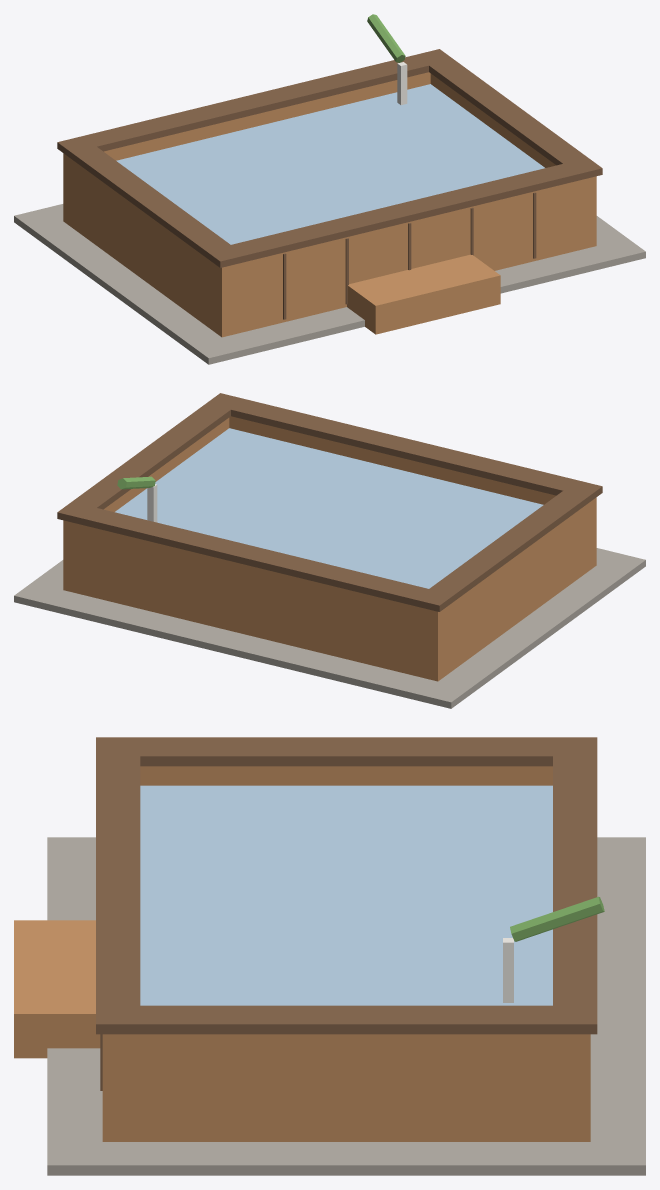
The model's file is bath.glb.
The picture shows the model from 3 angles, top to bottom: view 1: azimuth 30°, elevation 25°; view 2: azimuth 150°, elevation 25°; view 3: azimuth 270°, elevation 25°; orthographic projection. The views are drawn at different scales.
Parts seen in each view (by area): view 1: bath; view 2: bath; view 3: bath.
Boxes of the visible parts, x1,y1,x2,y2 form: bath: (14,14,645,364); bath: (14,393,645,708); bath: (14,737,645,1175).
Bounding box in the file's own units: 3.5 × 1.04 × 2.85.
